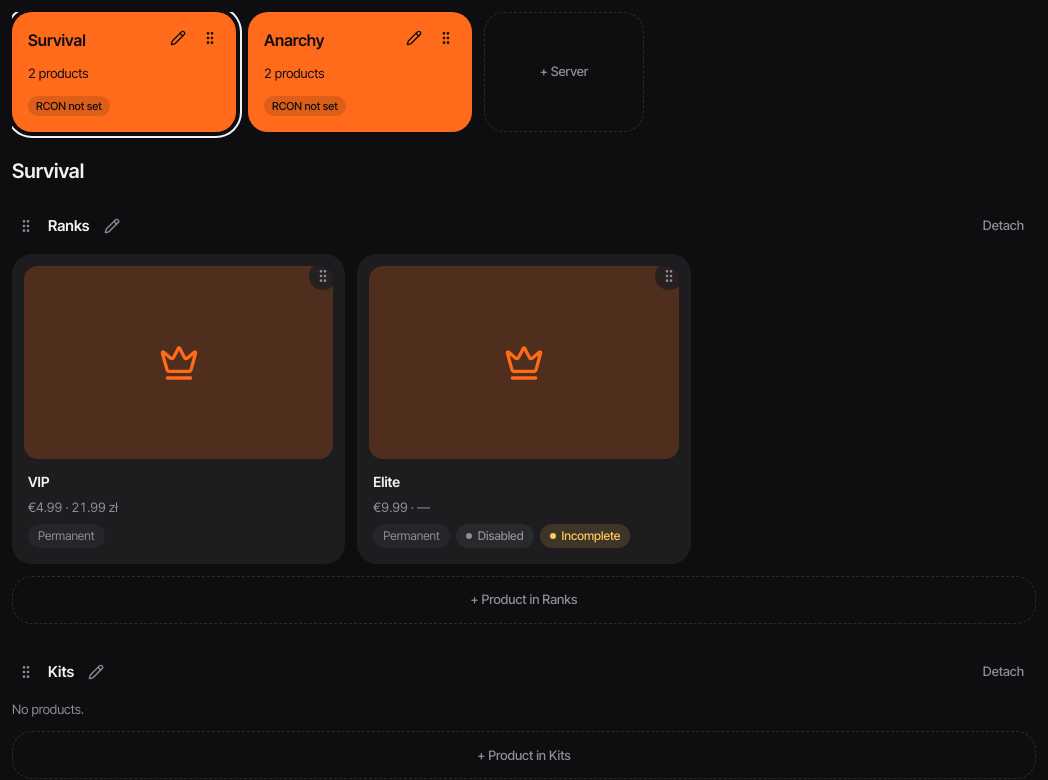
Test case: CatalogBoard › explains why a category cannot be detached
The image size is (1048, 780).
What coordinates should you click on to do the following:
click the button with aria-label "Detach Ranks"
I would click on:
 (1003, 226)
Its box is x1=971 y1=210 x2=1036 y2=242.
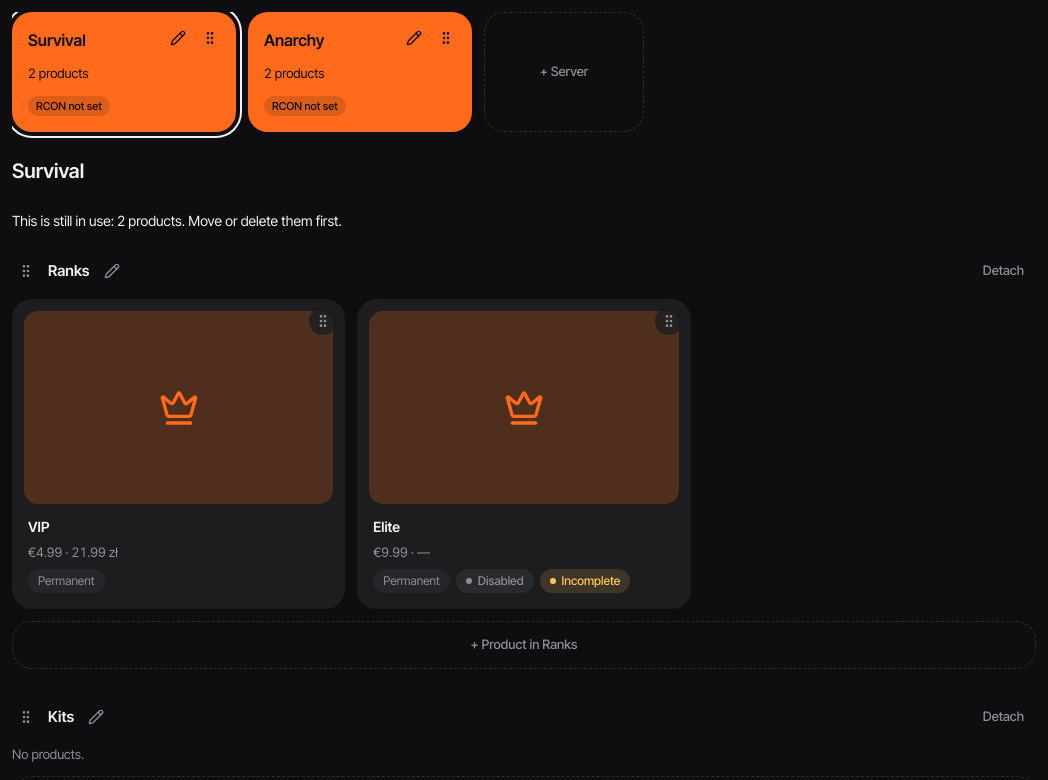
Result: the message reads "This is still in use: 2 products. Move or delete them first." at x1=12 y1=212 x2=342 y2=229
